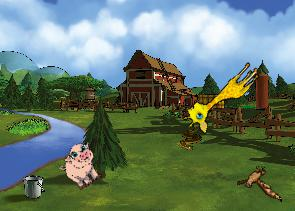eagle: (235, 163, 284, 202)
giraffe: (179, 52, 263, 138)
pig: (54, 138, 109, 194)
